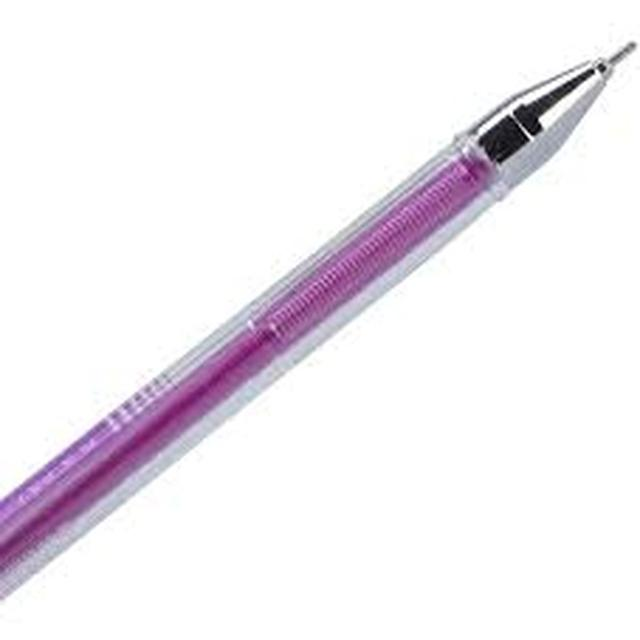pen: (0, 41, 639, 594)
